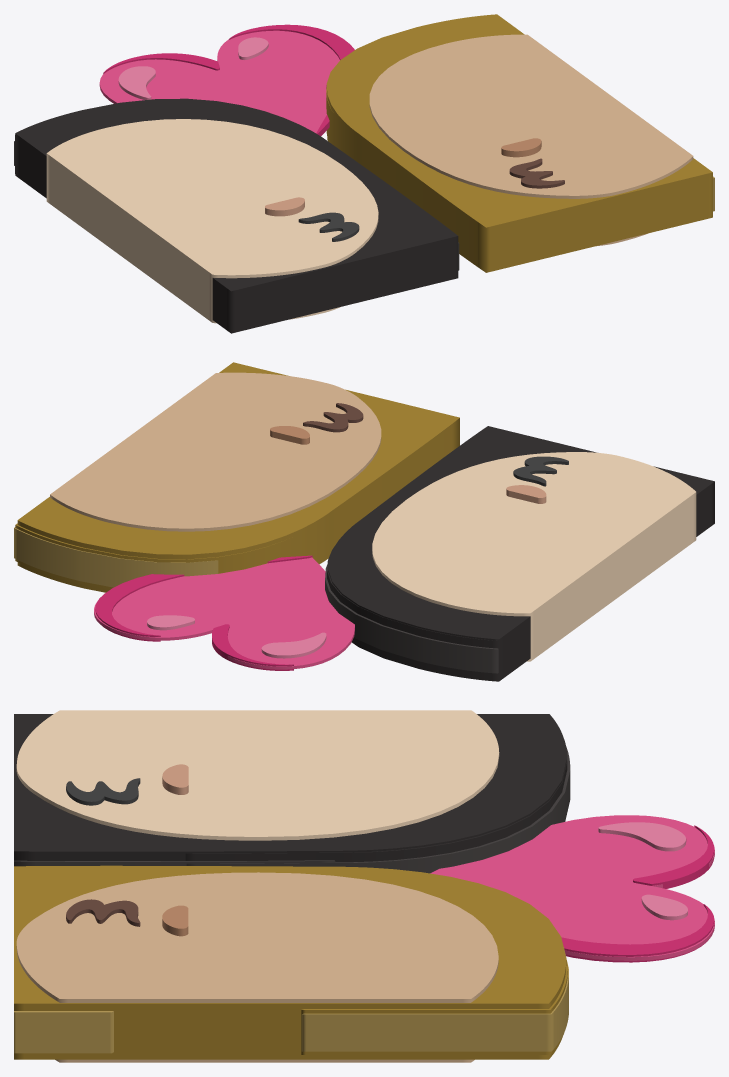
The model's file is emoji_u1f469_1f3fb_200d_2764_200d_1f48b_200d_1f469_1f3fc.glb.
3 views of the same model, one above another, from view 1: azimuth 30°, elevation 25°; view 2: azimuth 150°, elevation 25°; view 3: azimuth 270°, elevation 25° (orthographic). The views are drawn at different scales.
Visible parts, largest first — view 1: emoji_u1f469_1f3fb_200d_2764_200d_1f48b_200d_1f469_1f3fc; view 2: emoji_u1f469_1f3fb_200d_2764_200d_1f48b_200d_1f469_1f3fc; view 3: emoji_u1f469_1f3fb_200d_2764_200d_1f48b_200d_1f469_1f3fc.
Part boxes in pixels (x1=…): emoji_u1f469_1f3fb_200d_2764_200d_1f48b_200d_1f469_1f3fc: x1=14, y1=14, x2=714, y2=333; emoji_u1f469_1f3fb_200d_2764_200d_1f48b_200d_1f469_1f3fc: x1=14, y1=362, x2=714, y2=681; emoji_u1f469_1f3fb_200d_2764_200d_1f48b_200d_1f469_1f3fc: x1=14, y1=710, x2=714, y2=1062.
Bounding box in the file's own units: 0.0336 × 0.0042 × 0.0339.
